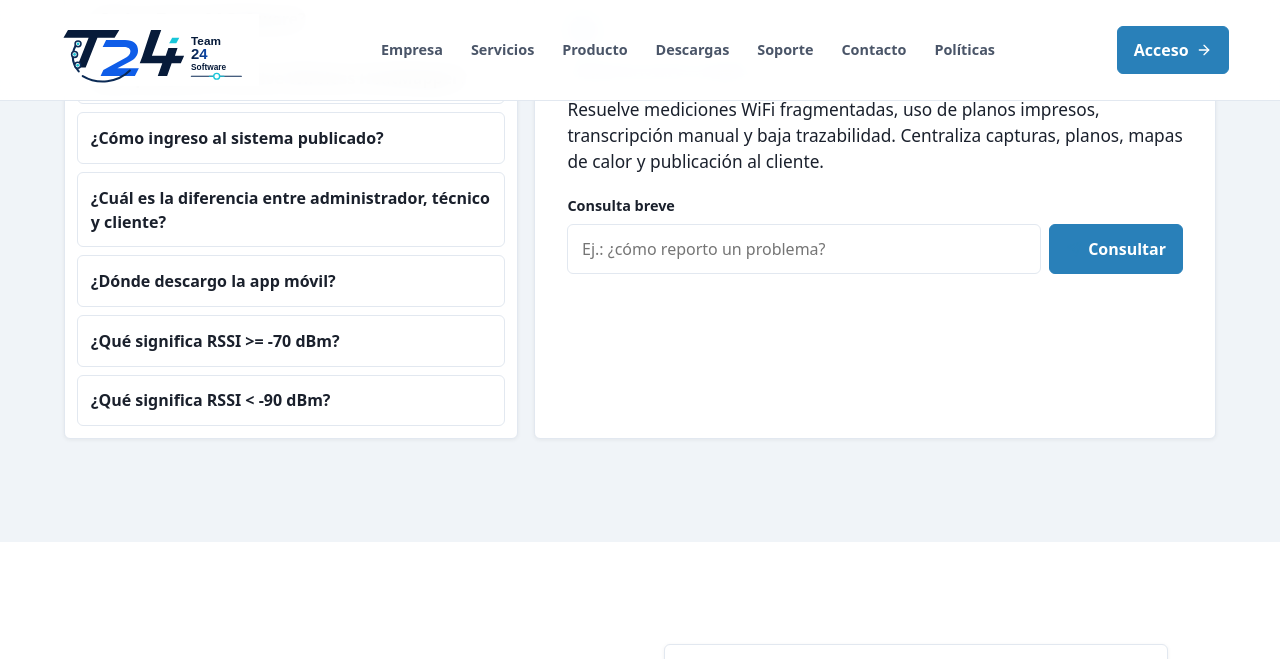
SitioEmpresa › consulta el chatbot empresarial mediante el endpoint Azure
(page scrolled)
Click the button "¿Qué significa RSSI < -90 dBm?" at (291, 400), box [77,375,505,426]
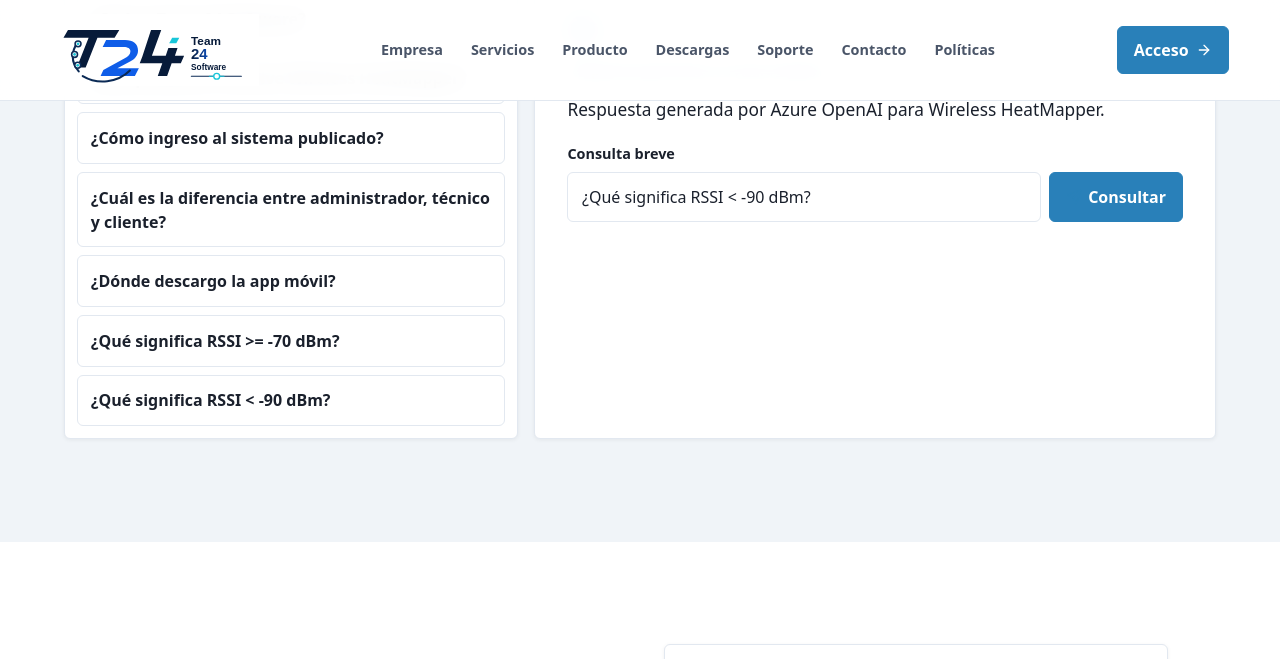
expect the text "Respuesta generada por Azure OpenAI" is shown: met, box [567,98,1105,121]
